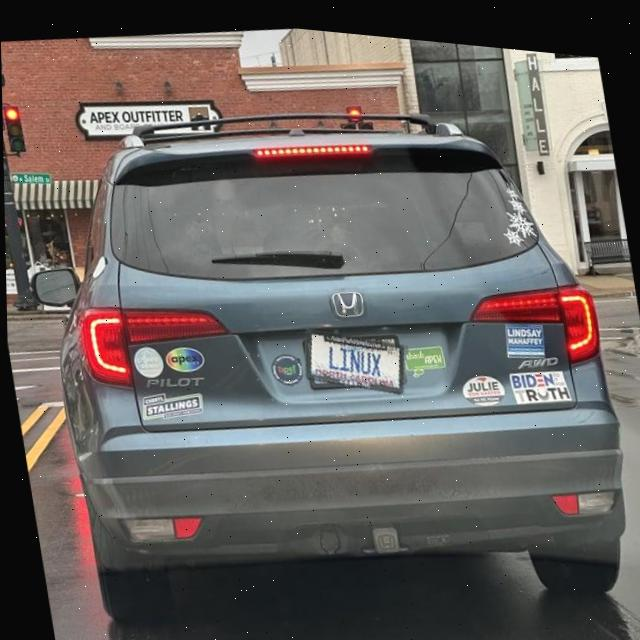LicensePlate: (303, 322, 405, 387)
